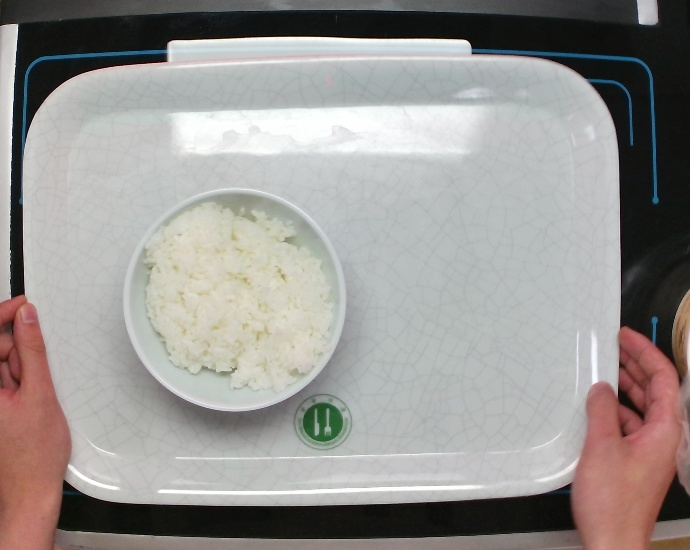JYsf-Fan_Wan: (121, 184, 348, 414)
